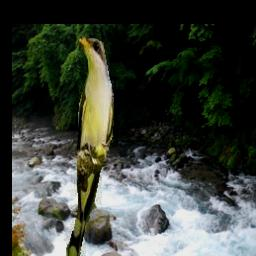Cuckoo: (66, 35, 114, 256)
